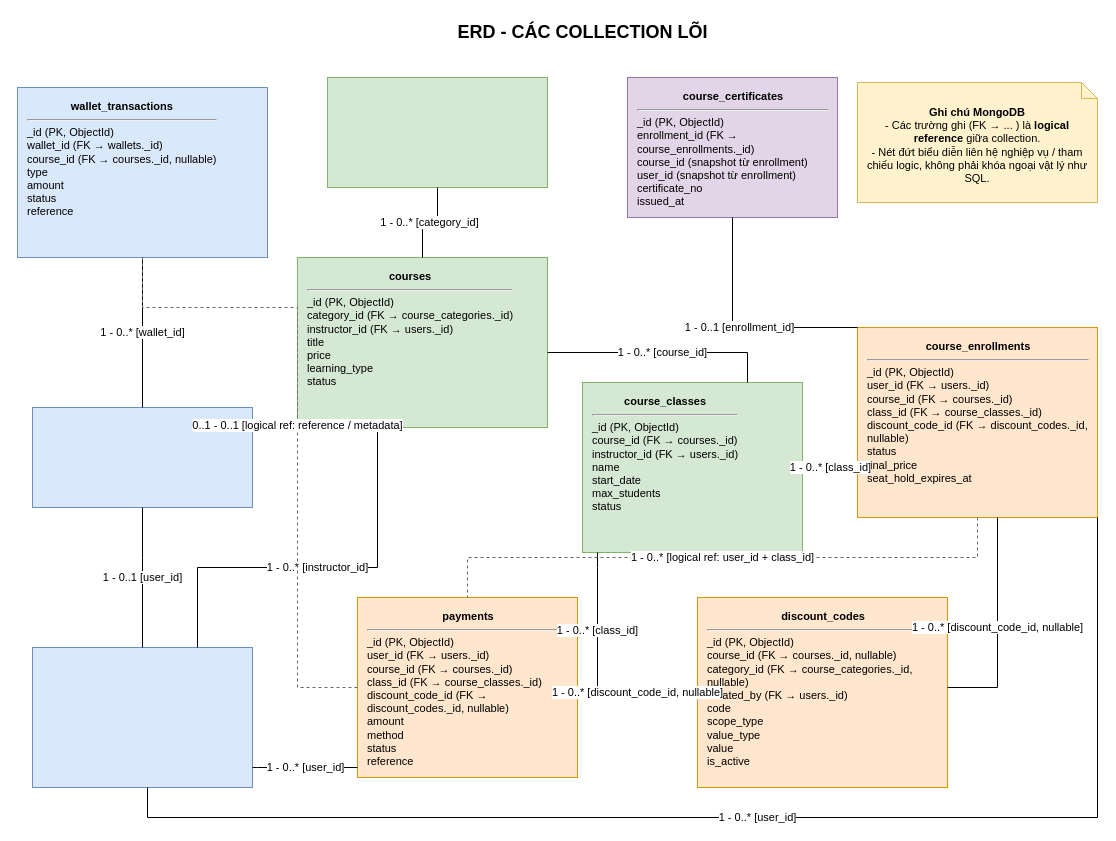
This 1116x841 diagram has some shape labels left out. Here are the shapes that lost their labels. From the top down, the centre of each, then its label:
At pixel 437 132: "course_categories _id (PK, ObjectId) name slug status".
At pixel 142 457: "wallets _id (PK, ObjectId) user_id (FK → users._id) balance".
At pixel 142 717: "users _id (PK, ObjectId) fullname email role is_verified".
